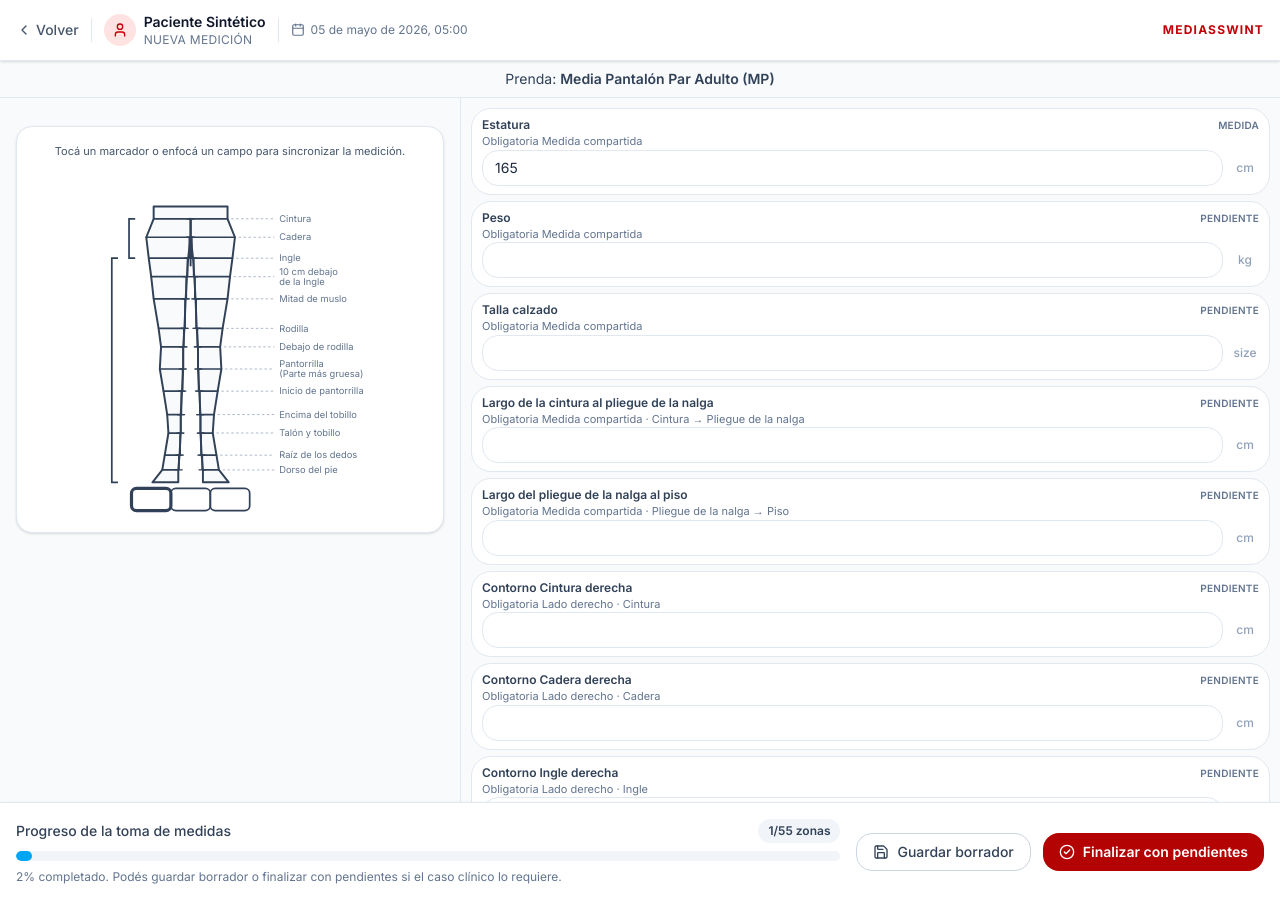
Test: MP editor: save errors are visible, in Spanish, and never stale › keeps the MP draft-saved notice and marks the missing values of a 422
The image size is (1280, 900).
Step 1. Click the button "Finalizar con pendientes" → [1153, 852], box left=1043, top=832, right=1264, bottom=870
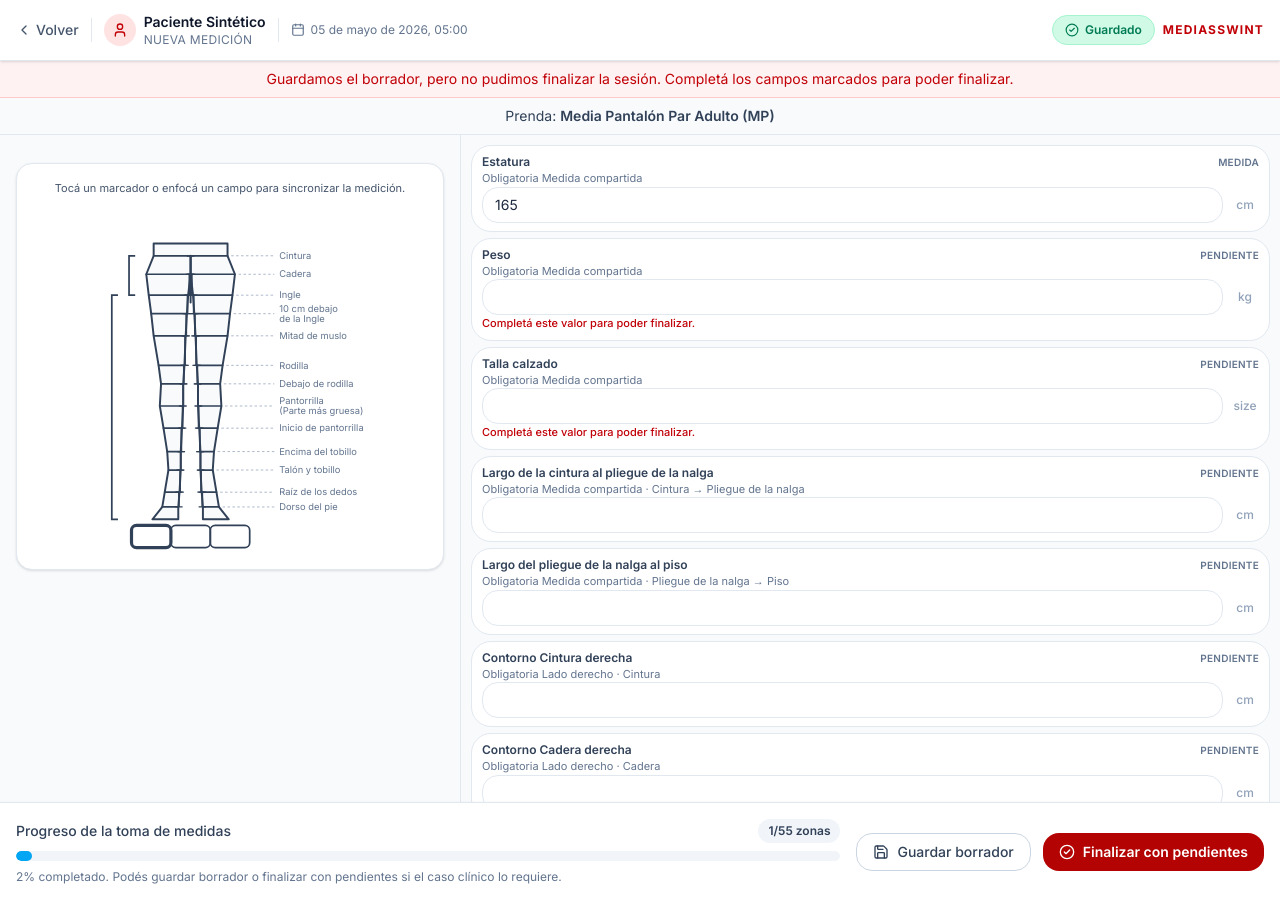
Result: the message "Completá este valor para poder finalizar." below "kg" is shown at left=482, top=316, right=695, bottom=330
Result: the text "Guardamos el borrador, pero no pudimos finalizar la sesión" is shown at left=266, top=70, right=1014, bottom=87
